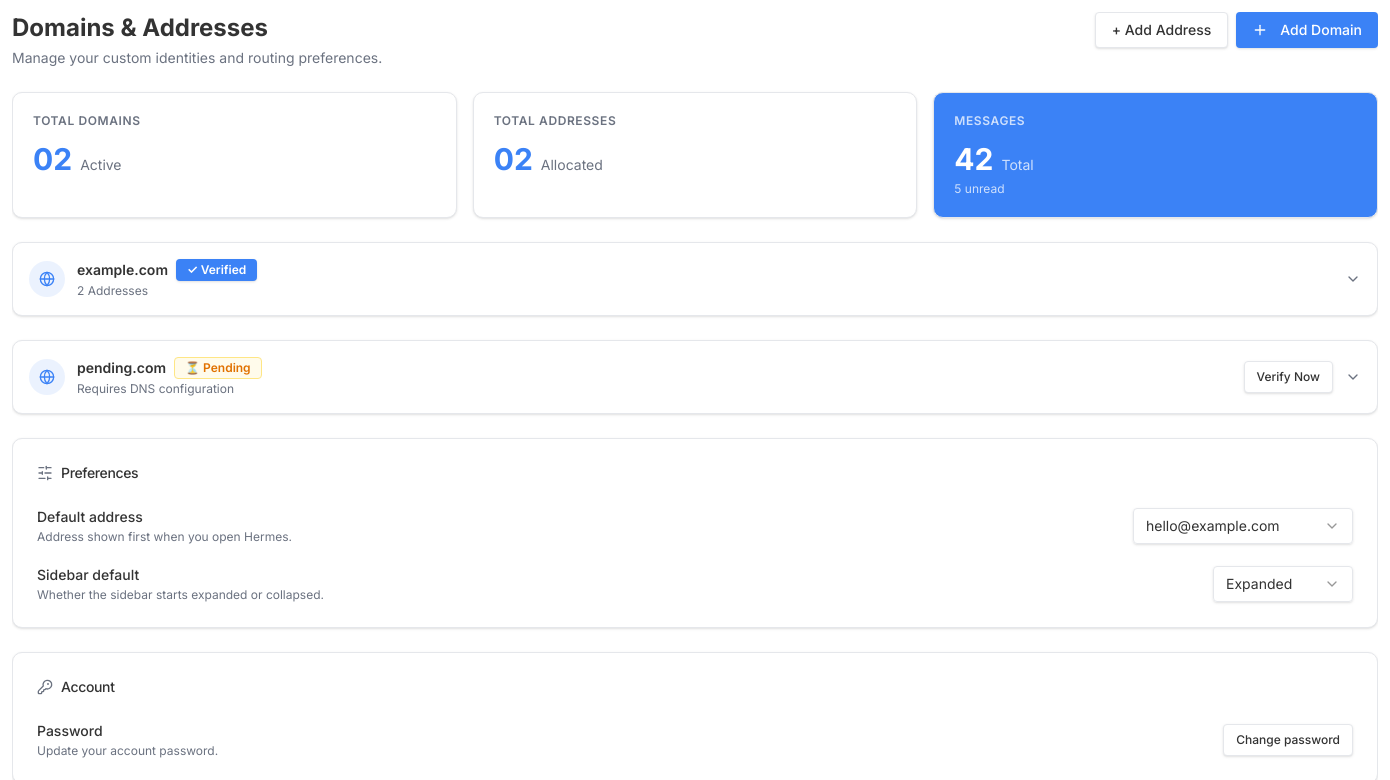
SettingsView › domain accordions › pending domain shows verify message when expanded
Click the button with test id "domain-row-pending.com" at (47, 377), box [13, 341, 1377, 413]
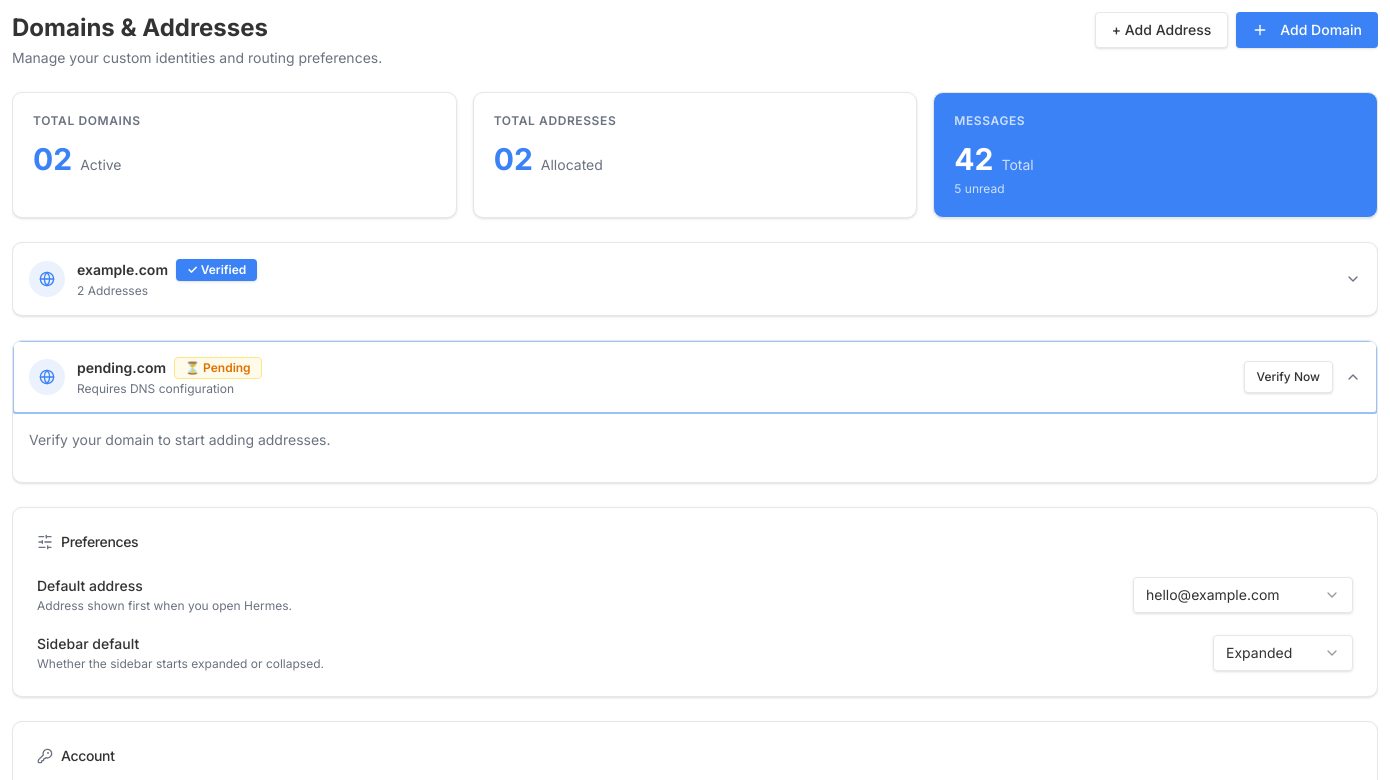
Expected: the text "Verify your domain to start adding addresses." is shown, [29, 431, 330, 448]
